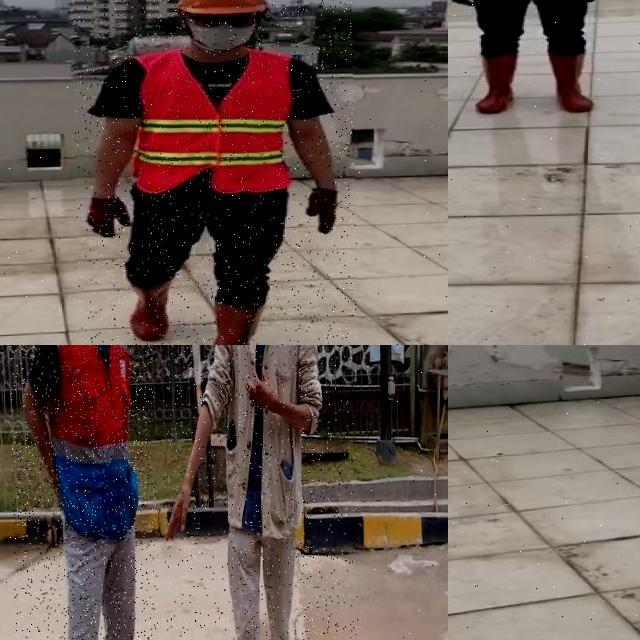boots: (545, 48, 598, 115), (120, 280, 174, 342), (474, 52, 521, 114), (212, 301, 271, 345)
helmet: (174, 0, 269, 18)
vest: (130, 52, 289, 194), (47, 345, 139, 539)
